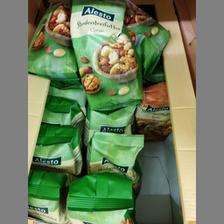Nuss: (67, 0, 143, 112), (132, 80, 170, 144)
